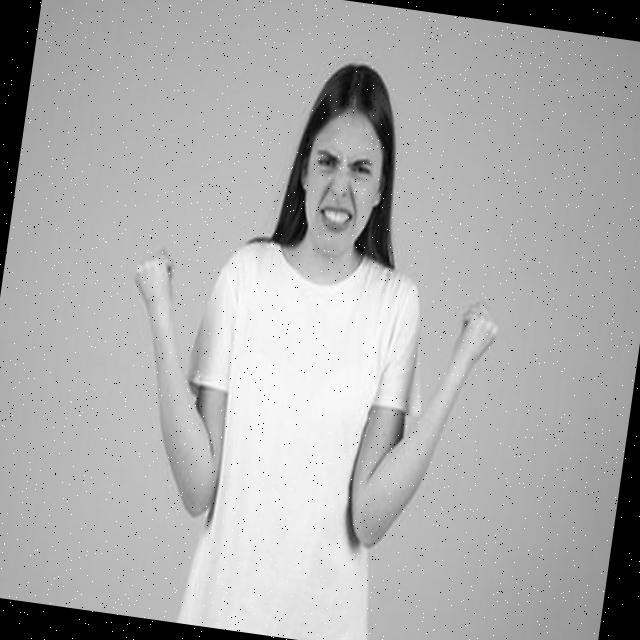Angry: (296, 112, 388, 260)
